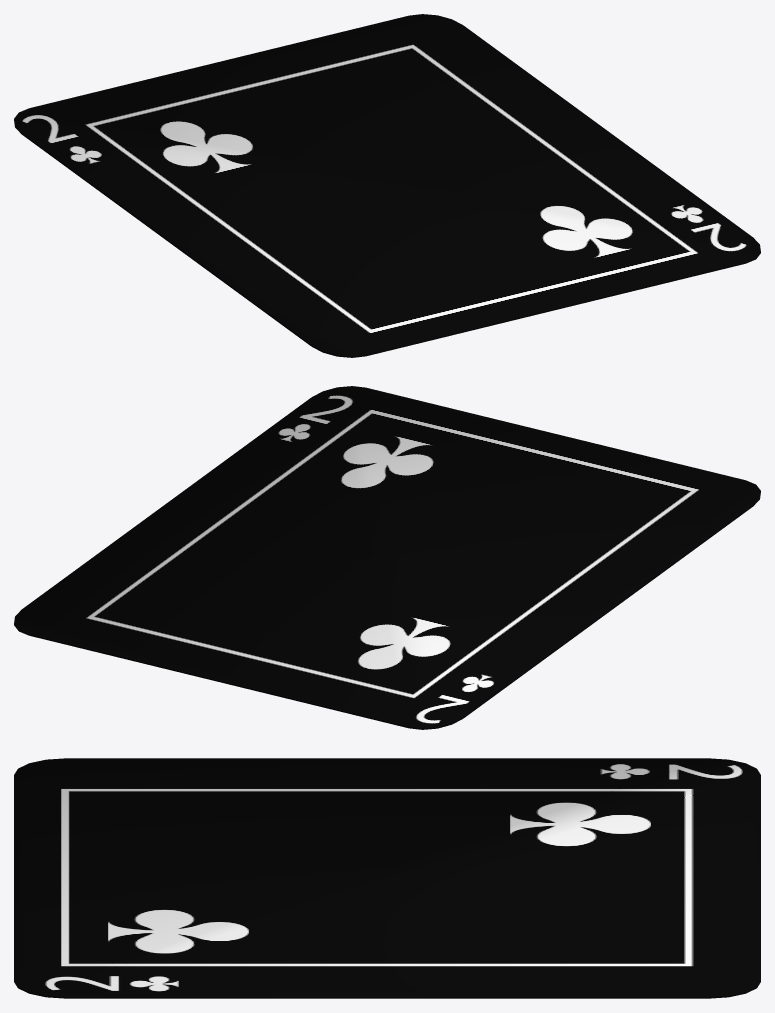
File: Deux_de_trèfle.gltf
3 views of the same model, one above another, from view 1: azimuth 30°, elevation 25°; view 2: azimuth 150°, elevation 25°; view 3: azimuth 270°, elevation 25° (orthographic). The views are drawn at different scales.
Parts seen in each view (by area): view 1: Plane.001; view 2: Plane.001; view 3: Plane.001.
Part boxes in pixels (x1,y1,x2,y2): Plane.001: (14,14,760,357); Plane.001: (14,386,760,729); Plane.001: (14,758,760,998).
Bounding box in the file's own units: 3.59 × 0.01 × 4.74.
Materials: 2 (2 with a texture image).
